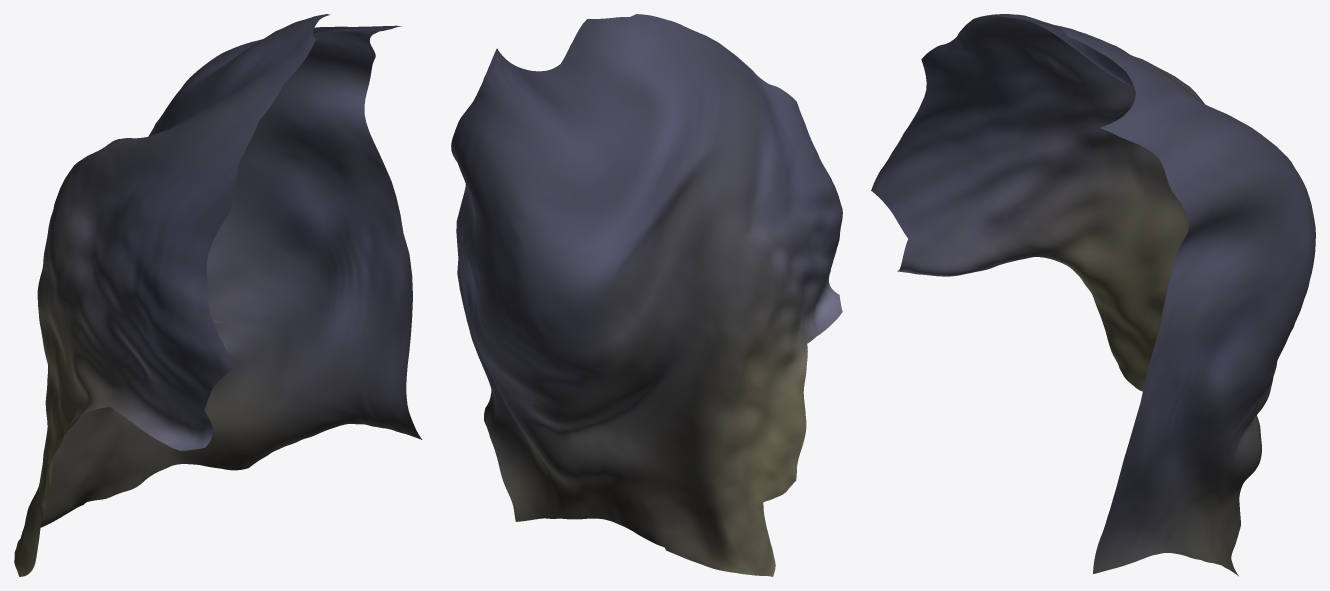
The model's file is Cloud_global_new_2.glb.
The picture shows the model from 3 angles, left to right: view 1: azimuth 30°, elevation 25°; view 2: azimuth 150°, elevation 25°; view 3: azimuth 270°, elevation 25°; orthographic projection. The views are drawn at different scales.
Visible parts, largest first — view 1: LOD0; view 2: LOD0; view 3: LOD0.
Boxes of the visible parts, x1,y1,x2,y2 form: LOD0: (14,14,422,576); LOD0: (451,14,842,576); LOD0: (871,14,1315,576).
Size of what is drawn, in the model's own units: 1.04 by 1.42 by 1.01.
